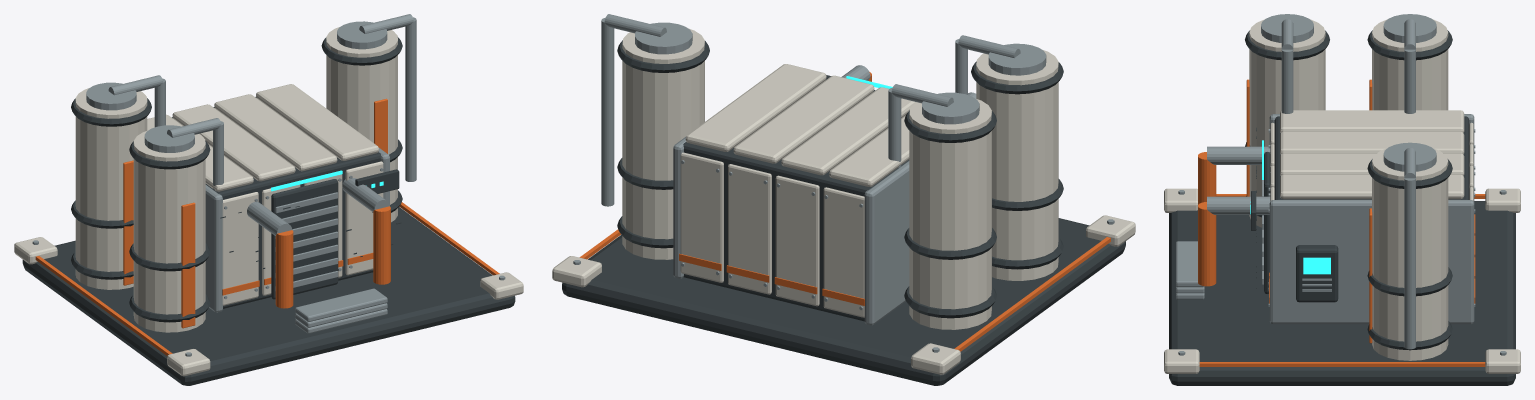
The model's file is SM_LifeSupportAssembly_Body.fbx.
3 views of the same model, side by side, from view 1: azimuth 30°, elevation 25°; view 2: azimuth 150°, elevation 25°; view 3: azimuth 270°, elevation 25° (orthographic). The views are drawn at different scales.
Parts seen in each view (by area): view 1: SM_LifeSupportAssembly_Body; view 2: SM_LifeSupportAssembly_Body; view 3: SM_LifeSupportAssembly_Body.
Part boxes in pixels (x1=…): SM_LifeSupportAssembly_Body: x1=14, y1=14, x2=523, y2=385; SM_LifeSupportAssembly_Body: x1=552, y1=14, x2=1135, y2=385; SM_LifeSupportAssembly_Body: x1=1164, y1=14, x2=1520, y2=385.
Size of the model in its own units: 503 by 422 by 287.
